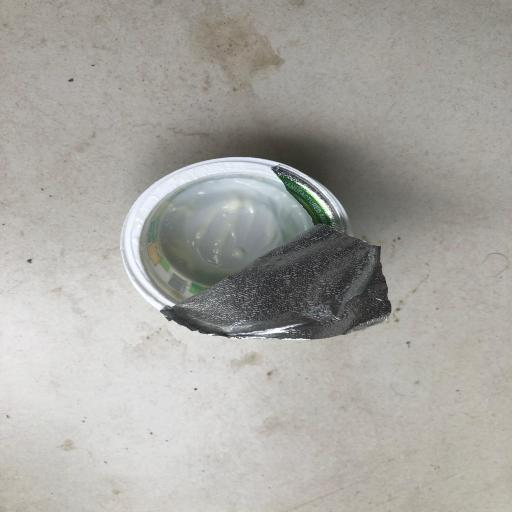waste: (96, 139, 409, 358)
